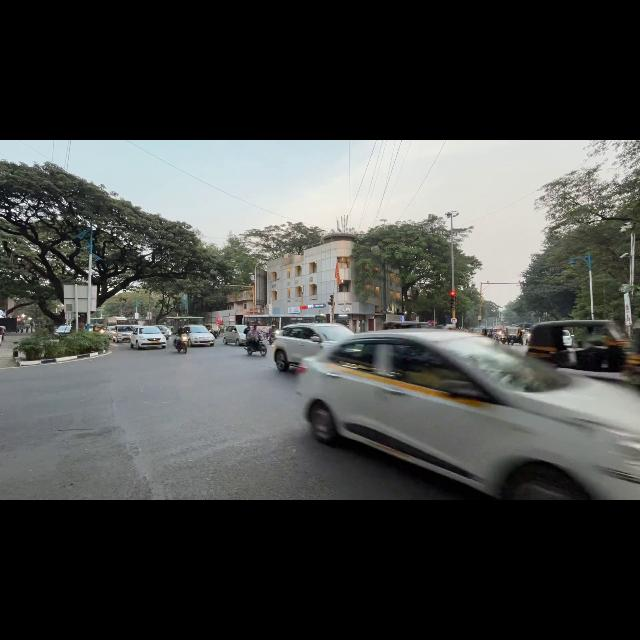bus: (243, 315, 323, 330), (165, 317, 203, 330), (91, 317, 128, 327), (104, 317, 128, 326)
car: (297, 330, 639, 499), (272, 323, 353, 371), (130, 326, 166, 349), (184, 325, 214, 346), (223, 325, 247, 345), (112, 325, 138, 342), (54, 325, 72, 338), (157, 325, 171, 339), (563, 330, 572, 347), (107, 326, 115, 339)
motorcycle: (245, 339, 266, 356), (175, 334, 188, 353), (268, 332, 274, 344), (212, 330, 219, 338)
